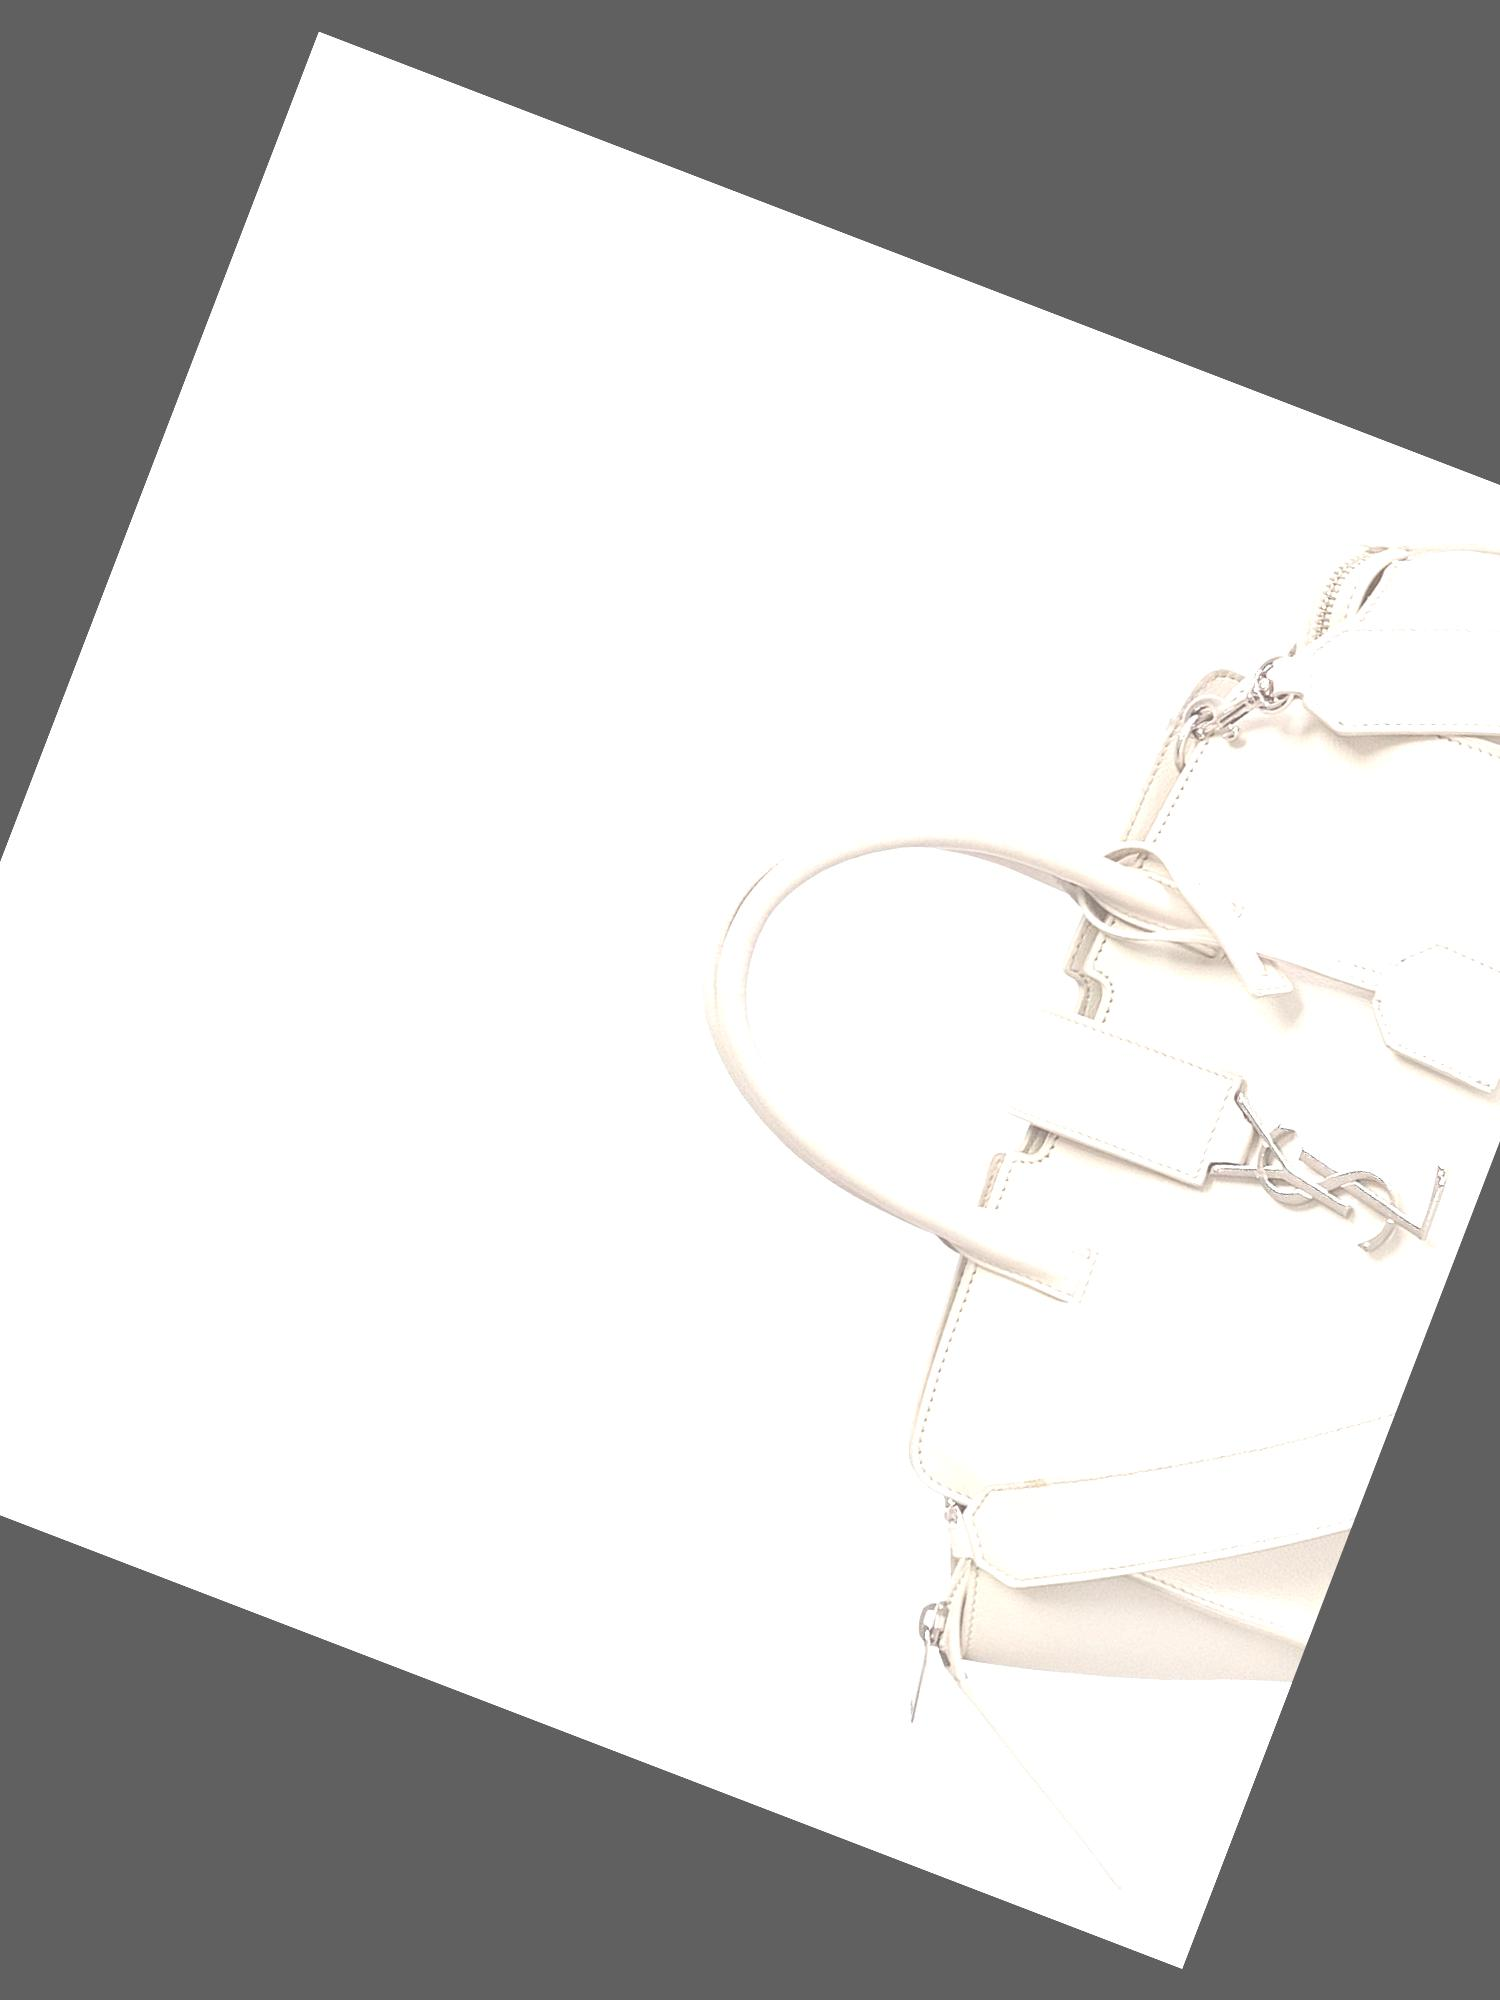YVES-SAINT-LAURENT: (1202, 1085, 1454, 1269)
